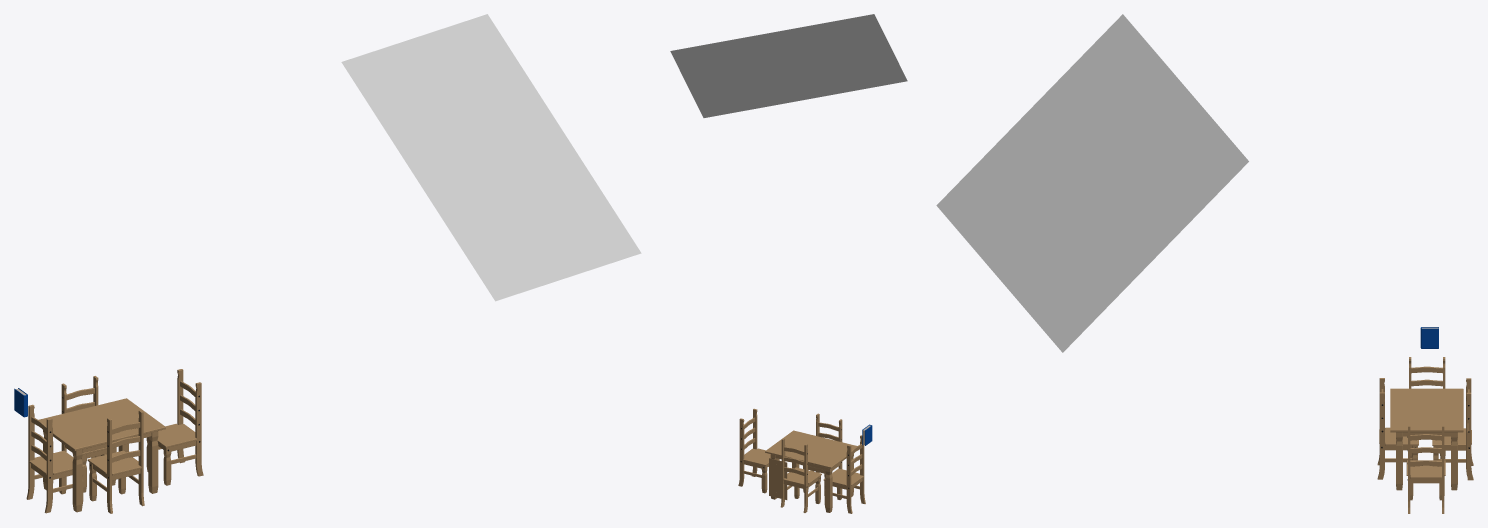
The model's file is  Corona Dining Table Set.dae.
The picture shows the model from 3 angles, left to right: view 1: azimuth 30°, elevation 25°; view 2: azimuth 150°, elevation 25°; view 3: azimuth 270°, elevation 25°; orthographic projection. The views are drawn at different scales.
Visible parts, largest first — view 1: Plane_001, Cube_003, Cube_000, Cube_004, Cube_008, Cube_009; view 2: Plane_001, Cube_003, Cube_009, Cube_004, Cube_008, Corona_Seconique_Tall_Bookcase_001, Cube_000; view 3: Plane_001, Cube_003, Cube_004, Cube_000, Cube_009, Cube_008.
Boxes of the visible parts, x1,y1,x2,y2 form: Plane_001: (341,14,641,301); Cube_003: (38,398,165,512); Cube_000: (87,410,144,513); Cube_004: (146,369,203,485); Cube_008: (26,404,84,513); Cube_009: (61,376,115,492); Plane_001: (670,14,907,117); Cube_003: (765,430,857,512); Cube_009: (780,438,821,512); Cube_004: (738,408,779,493); Cube_008: (823,435,865,513); Corona_Seconique_Tall_Bookcase_001: (769,458,787,499); Cube_000: (803,413,842,495); Plane_001: (936,14,1248,352); Cube_003: (1390,388,1463,490); Cube_004: (1406,424,1445,513); Cube_000: (1377,378,1418,479); Cube_009: (1432,378,1473,480); Cube_008: (1409,357,1445,458).
Bounding box in the file's own units: 5.11 × 6 × 6.1.
